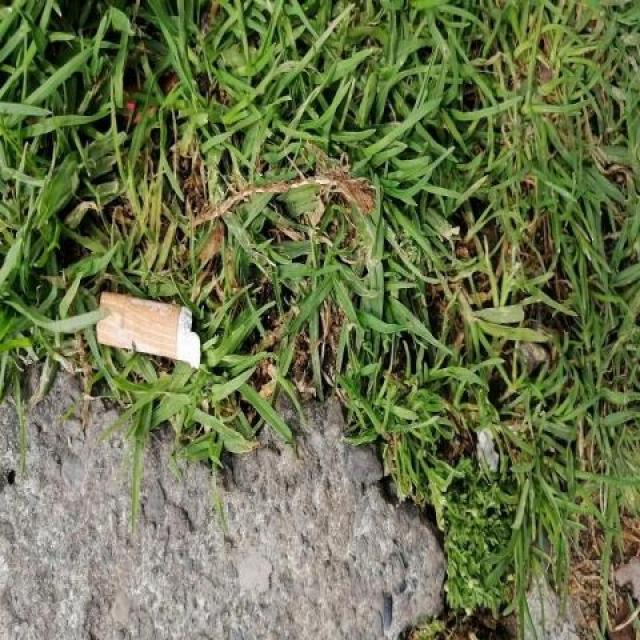non-organic waste: (96, 289, 203, 371)
